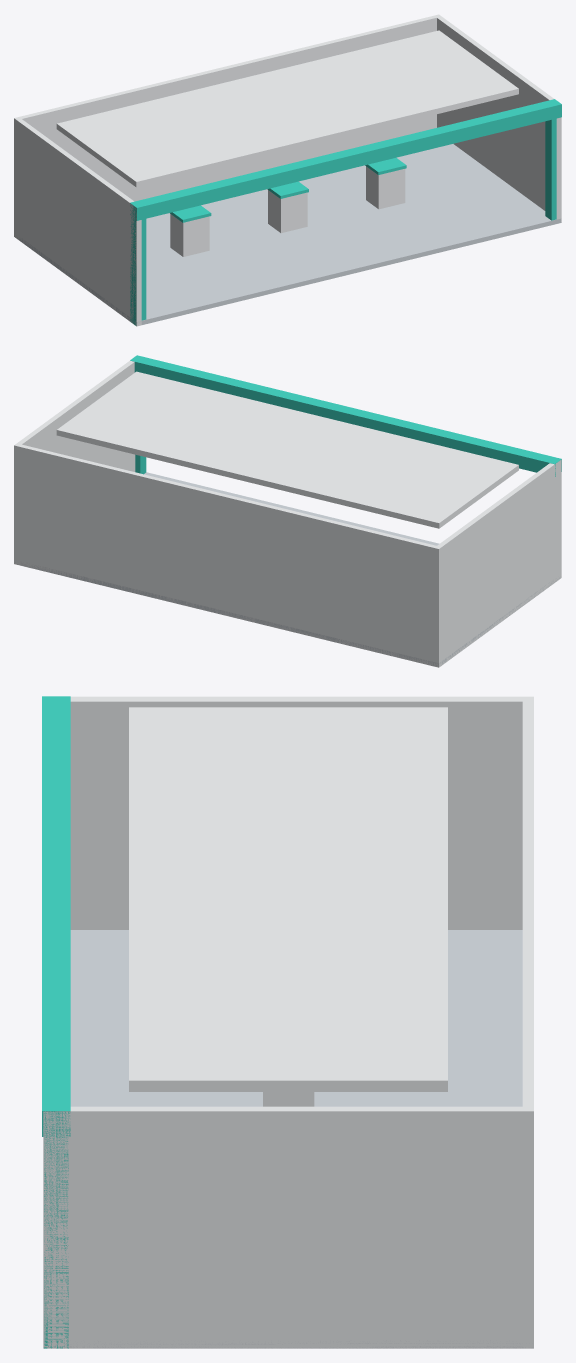
3 renders of one model, top to bottom at view 1: azimuth 30°, elevation 25°; view 2: azimuth 150°, elevation 25°; view 3: azimuth 270°, elevation 25°, orthographic. The views are drawn at different scales.
Parts seen in each view (by area): view 1: Exhibition Booth Concept; view 2: Exhibition Booth Concept; view 3: Exhibition Booth Concept.
Boxes of the visible parts, x1,y1,x2,y2 form: Exhibition Booth Concept: (14,14,561,326); Exhibition Booth Concept: (14,355,561,667); Exhibition Booth Concept: (42,696,533,1348).
Bounding box in the file's own units: 12 × 3.34 × 6.02.
